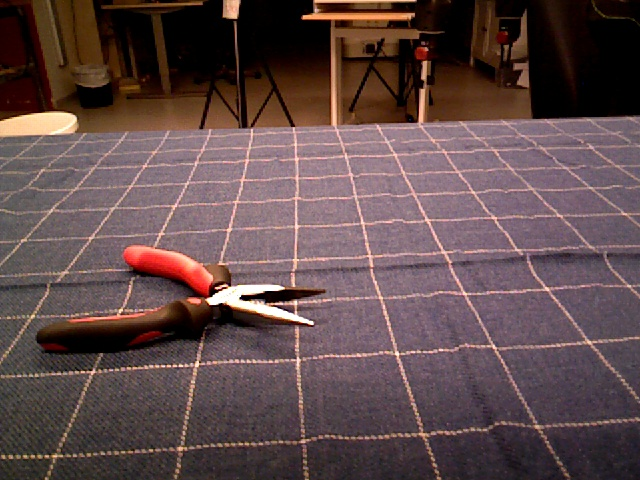plier1: (35, 243, 329, 355)
